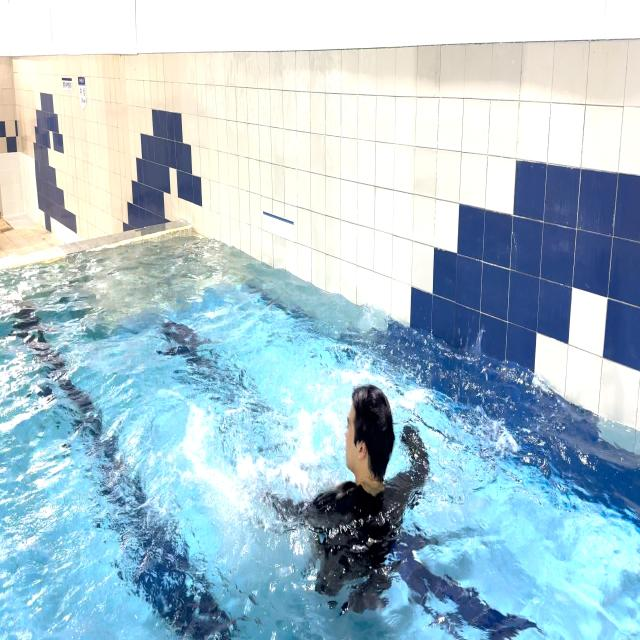Swimming: (227, 337, 439, 587)
